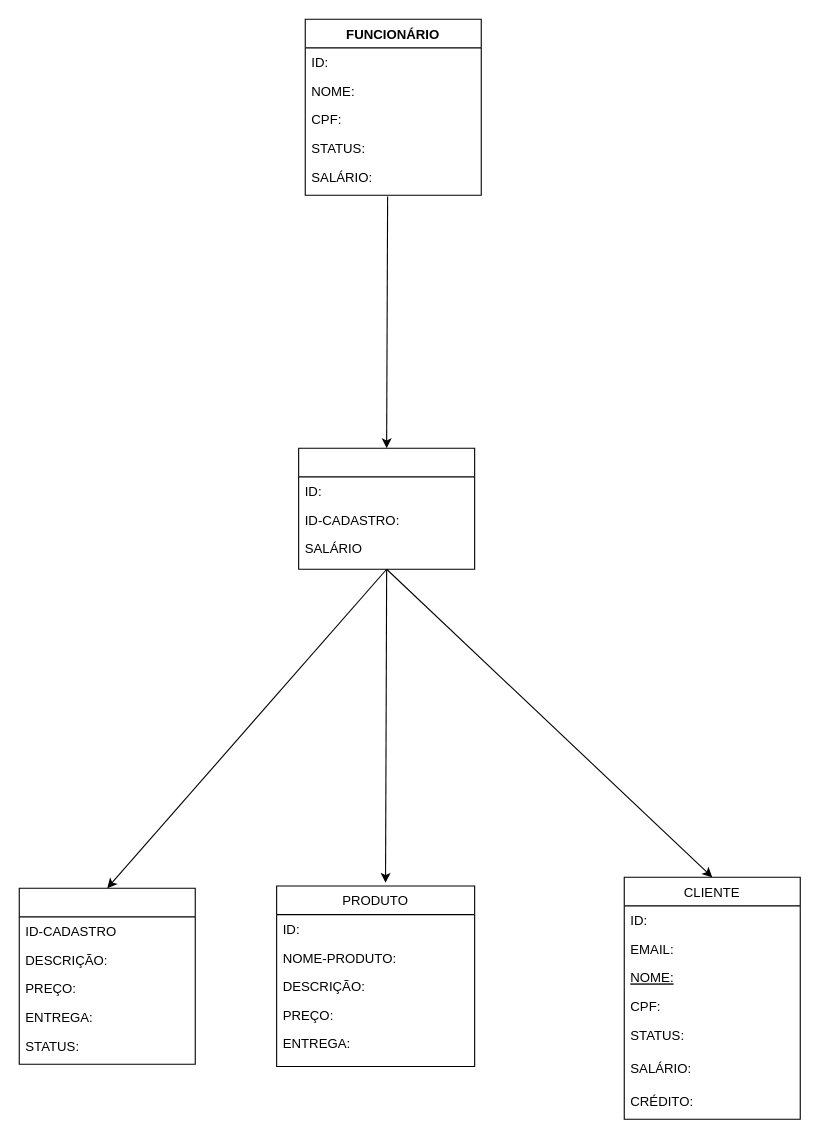
This 820x1142 diagram has some shape labels left out. Here are the shapes that lost their labels. From the top down, the box of each, then its label:
(298, 447, 475, 569): VENDEDOR
(18, 887, 195, 1064): PEDIDO
